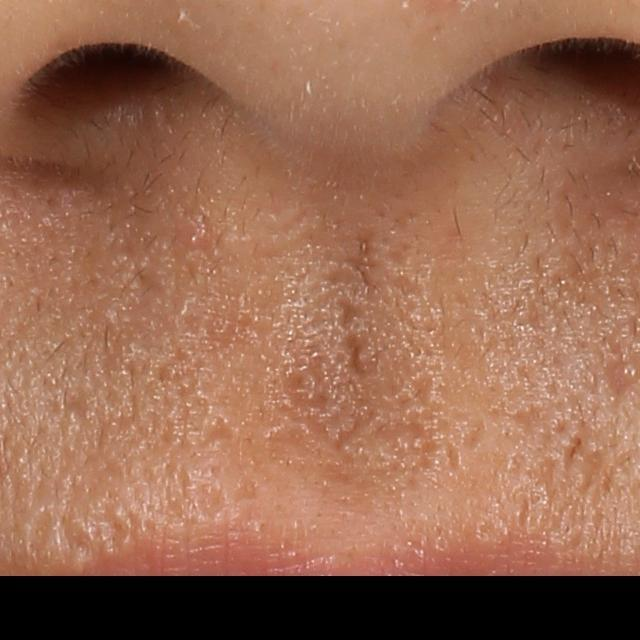atrophic_scar: (331, 400, 380, 449), (345, 224, 378, 289), (193, 476, 232, 527), (343, 332, 376, 388), (199, 411, 244, 449), (23, 506, 56, 556), (560, 429, 592, 472), (407, 371, 439, 413), (336, 295, 358, 330), (443, 440, 466, 473)
